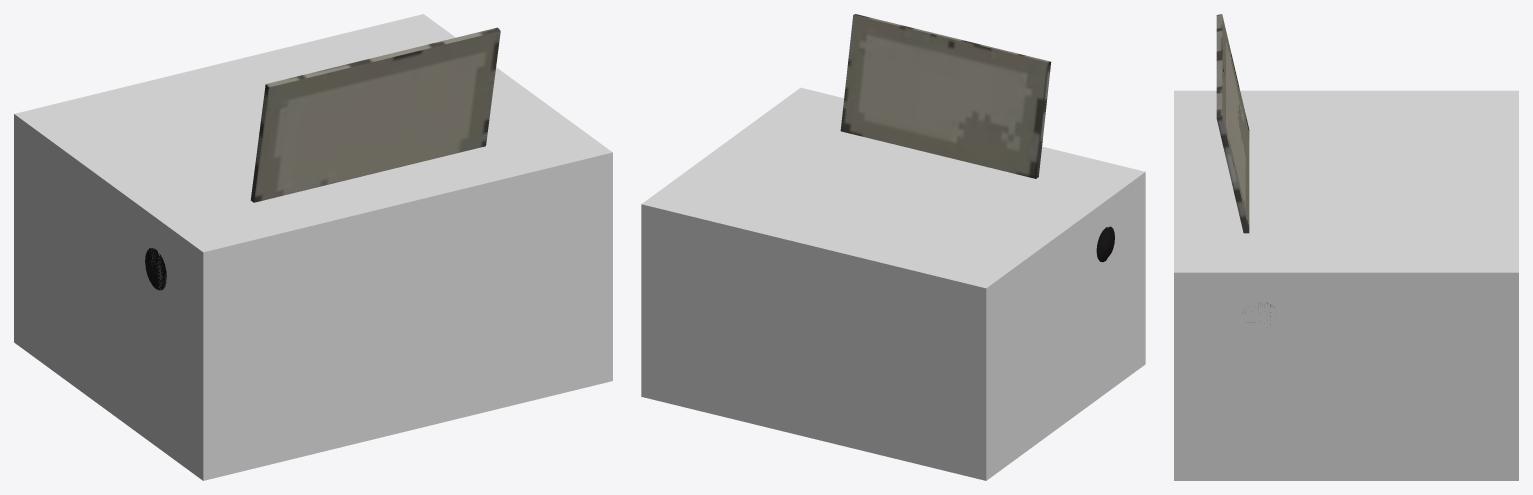
Rendered from Typewriter.glb.
The picture shows the model from 3 angles, left to right: view 1: azimuth 30°, elevation 25°; view 2: azimuth 150°, elevation 25°; view 3: azimuth 270°, elevation 25°; orthographic projection. The views are drawn at different scales.
Parts seen in each view (by area): view 1: Col_1__Plastic__000000, Tex__SmoothPlastic__FFFFFF; view 2: Col_1__Plastic__000000, Tex__SmoothPlastic__FFFFFF; view 3: Col_1__Plastic__000000, Tex__SmoothPlastic__FFFFFF.
Boxes of the visible parts, bbox=[...] form: Col_1__Plastic__000000: bbox=[14, 14, 612, 480]; Tex__SmoothPlastic__FFFFFF: bbox=[145, 27, 500, 290]; Col_1__Plastic__000000: bbox=[641, 87, 1145, 480]; Tex__SmoothPlastic__FFFFFF: bbox=[840, 14, 1114, 262]; Col_1__Plastic__000000: bbox=[1174, 90, 1518, 480]; Tex__SmoothPlastic__FFFFFF: bbox=[1216, 14, 1274, 322].
Bounding box in the file's own units: 0.42 × 0.3488 × 0.336.
1 material, 1 textured.
